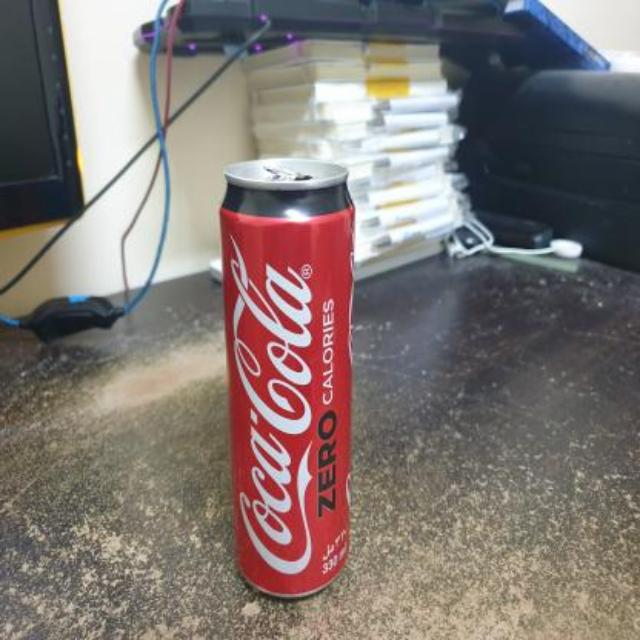metal: (218, 157, 351, 594)
